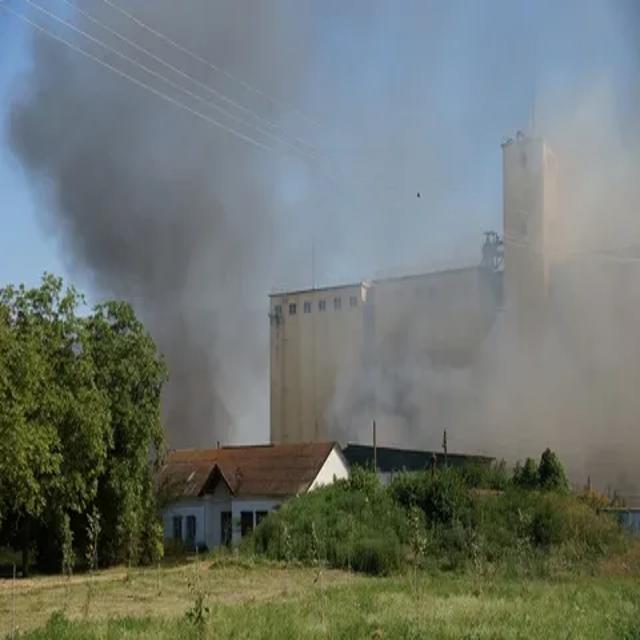Smoke: (2, 3, 272, 442), (329, 249, 640, 477)
